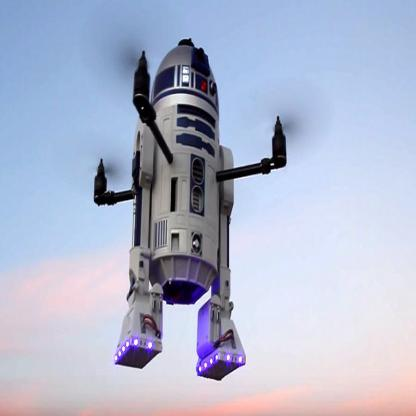drone: (68, 41, 298, 235)
